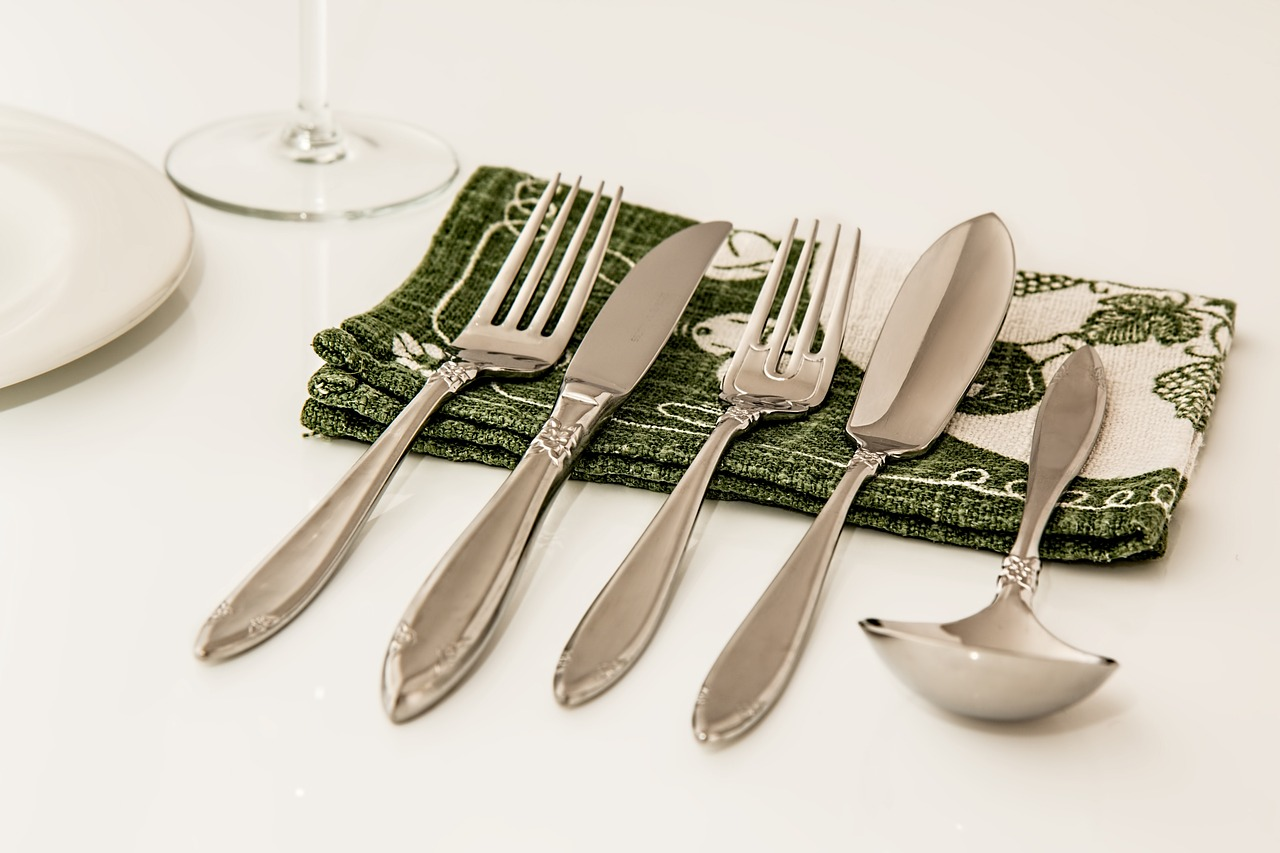knife: (360, 216, 752, 729)
